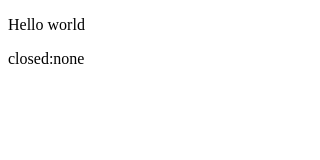
it: auto-open › opens for a later programmatic selection after a touch gesture
Later steps or results of the test are not shown.
Press the mouse on the text "Hello world" at (46, 24), box [8,16,85,33]
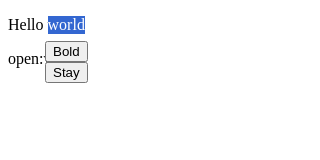
Check: the text with test id "state" reads "open:world", box [8,50,81,67]
